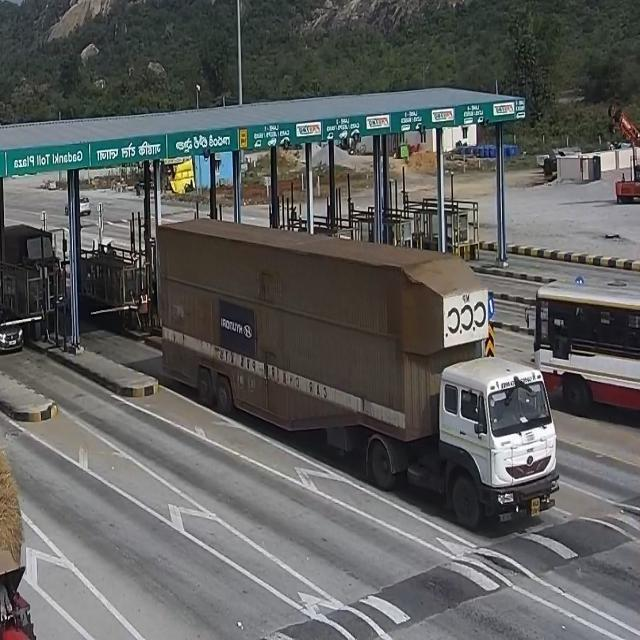truck: (141, 206, 566, 526)
